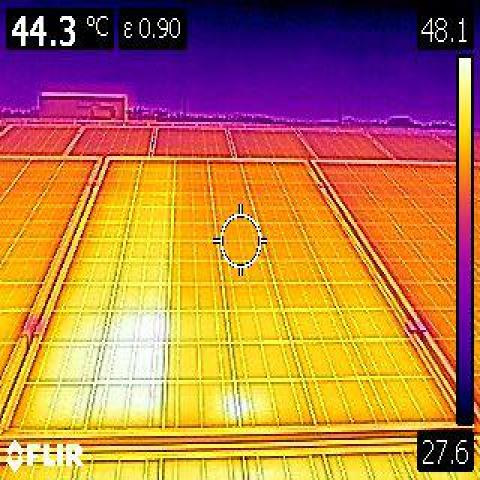fault: (82, 282, 168, 433), (222, 388, 252, 428)
